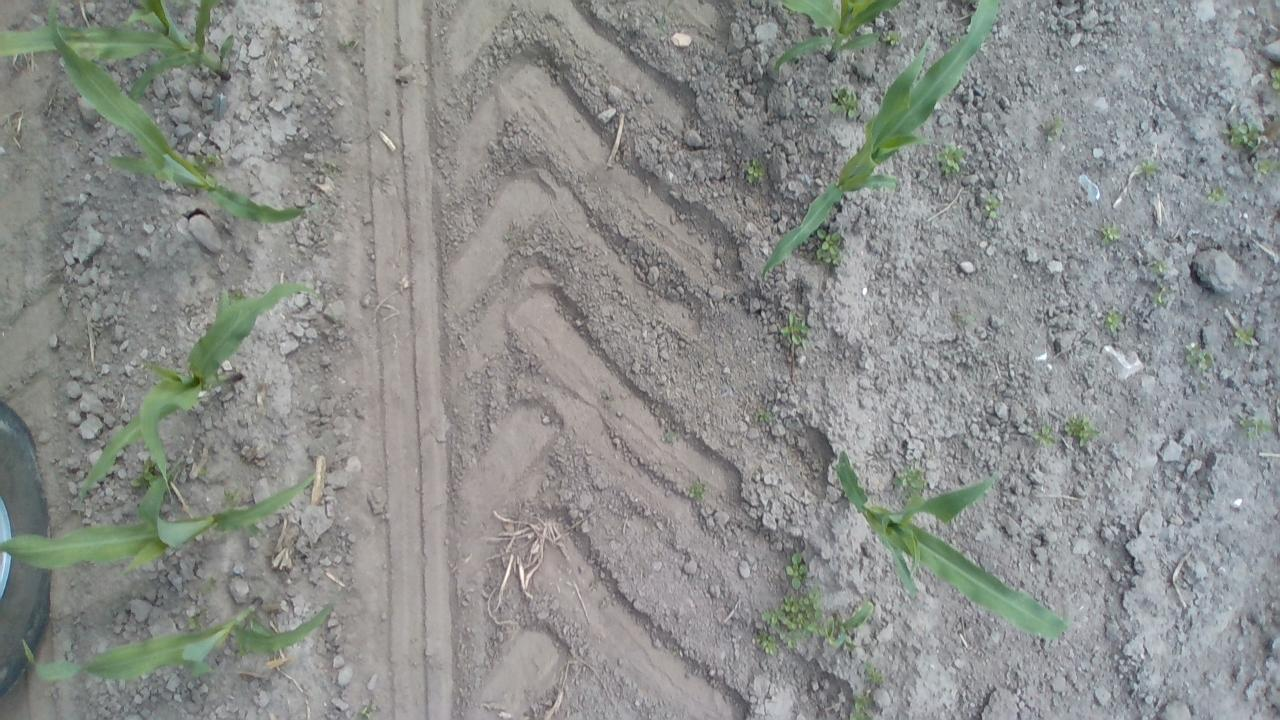Maize: (760, 0, 1003, 281), (46, 0, 324, 227), (76, 280, 338, 519), (835, 448, 1068, 639), (0, 455, 313, 577), (23, 598, 331, 682), (0, 0, 235, 107), (657, 0, 905, 71)
Weeds: (762, 586, 828, 648), (890, 460, 925, 500), (1064, 413, 1102, 448), (1222, 121, 1262, 154), (128, 454, 164, 489), (935, 142, 965, 180), (780, 312, 810, 349), (814, 227, 841, 267), (1184, 343, 1216, 375), (829, 86, 860, 119), (784, 552, 810, 590), (189, 152, 224, 176), (1239, 416, 1273, 440), (848, 693, 872, 720), (744, 156, 766, 184), (1032, 424, 1057, 447), (862, 660, 884, 686), (757, 631, 779, 656), (1206, 185, 1230, 204), (982, 194, 1001, 218), (1135, 159, 1160, 177), (1047, 116, 1064, 142), (1234, 324, 1254, 346), (1152, 285, 1172, 307), (1104, 308, 1122, 332), (1101, 222, 1120, 244), (1257, 158, 1280, 175), (881, 28, 900, 47), (688, 482, 705, 502), (223, 488, 239, 508), (1151, 259, 1171, 274), (184, 614, 202, 630), (1270, 66, 1280, 93), (227, 288, 243, 304), (754, 408, 772, 421), (201, 578, 215, 594), (236, 644, 250, 660), (170, 0, 193, 9), (661, 428, 675, 441), (358, 707, 370, 720), (197, 466, 210, 476), (964, 314, 976, 323), (325, 160, 337, 168), (343, 39, 353, 47)
